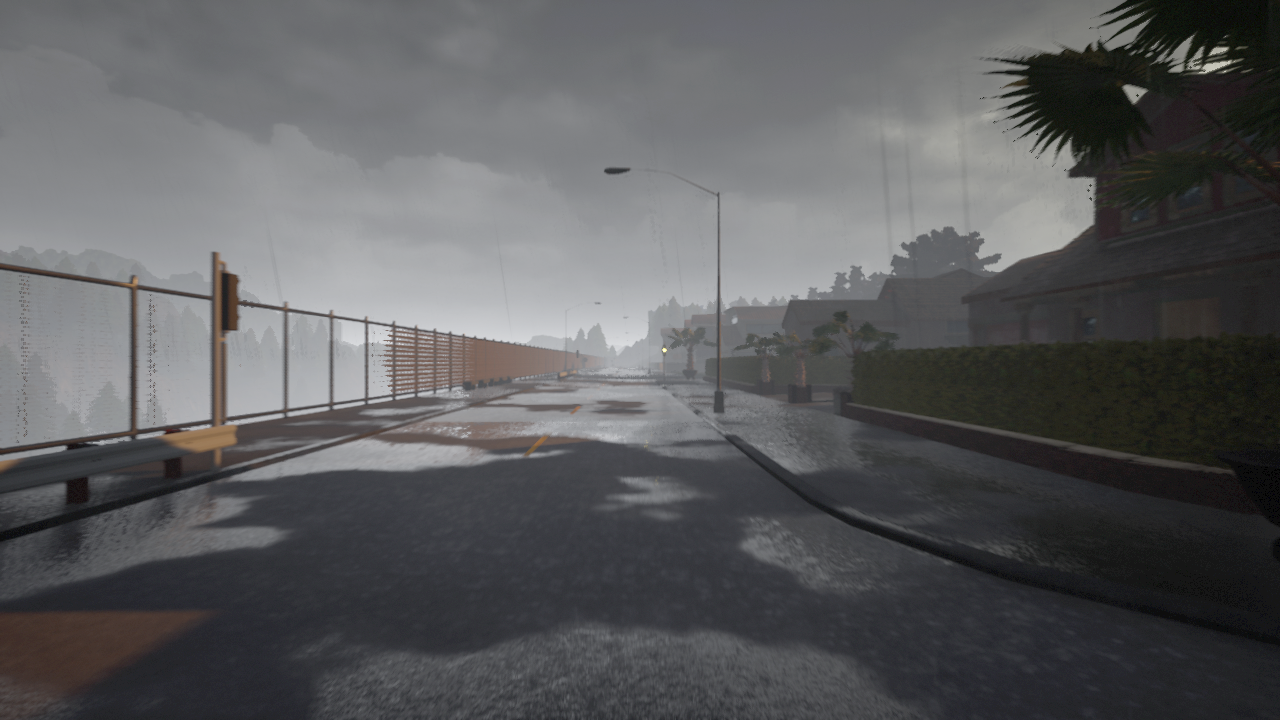yellow: (662, 343, 667, 356)
